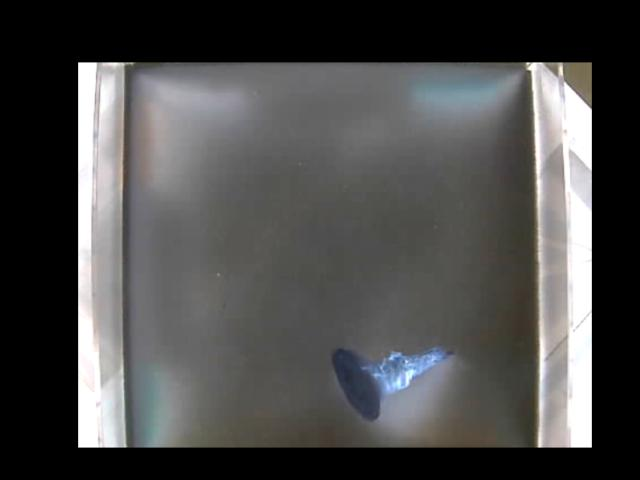Mooli: (332, 346, 452, 424)
